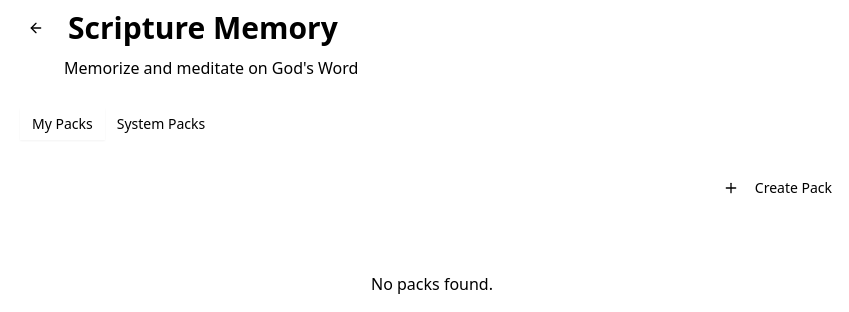
it: MemoryVersesPage - List View › switches to System Packs tab
This screenshot has width=849, height=312.
Expected: the text "No packs found." is shown, x1=371 y1=273 x2=493 y2=295
Note: Click System Packs tab
Click the tab "System Packs" at (161, 124), box x1=105 y1=108 x2=217 y2=140
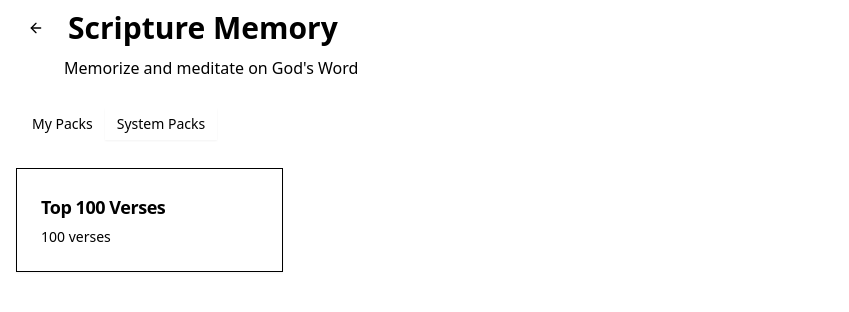
Result: the text "Top 100 Verses" is shown at x1=41 y1=193 x2=165 y2=221
